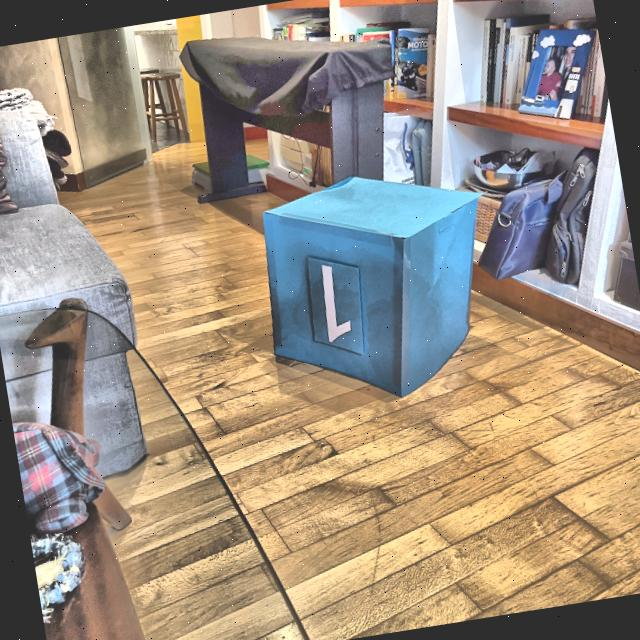blue box: (245, 152, 510, 418)
one: (313, 256, 357, 346)
